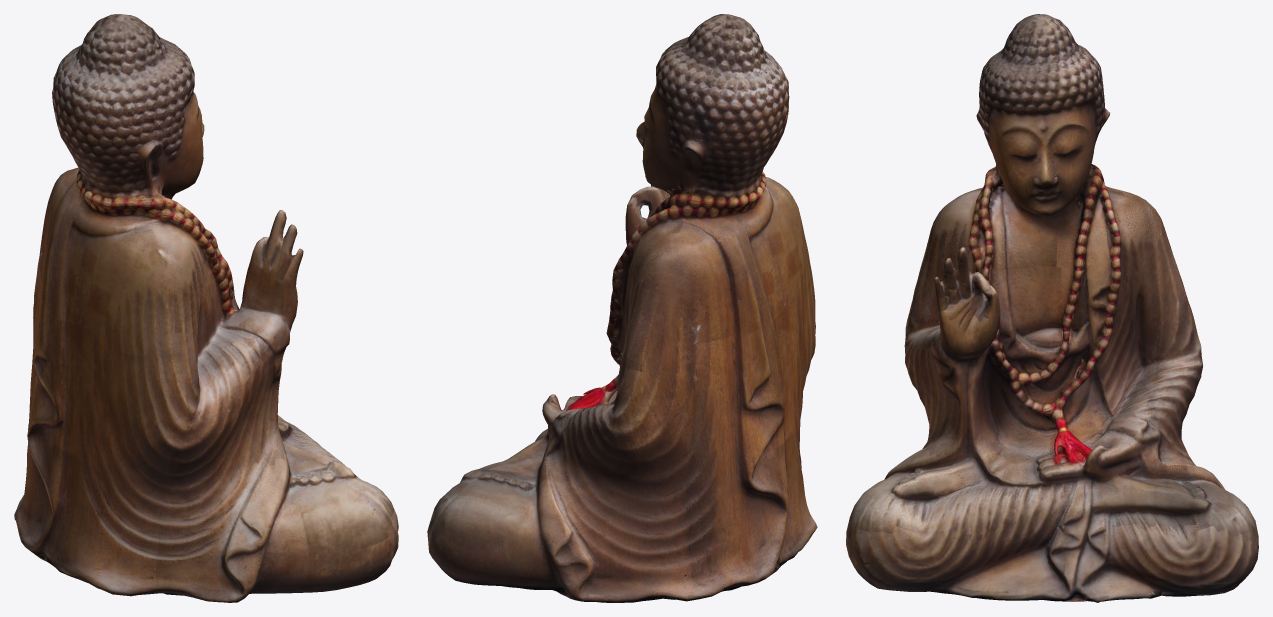
Rendered from discourse.glb.
3 renders of one model, left to right at view 1: azimuth 30°, elevation 25°; view 2: azimuth 150°, elevation 25°; view 3: azimuth 270°, elevation 25°, orthographic. The views are drawn at different scales.
Visible parts, largest first — view 1: Object_2; view 2: Object_2; view 3: Object_2.
Boxes of the visible parts, box(x1,y1,x2,y2) form: Object_2: box(14, 14, 398, 602); Object_2: box(427, 14, 817, 602); Object_2: box(846, 14, 1258, 602).
Size of the model in its own units: 1.9 by 3.59 by 2.7.
1 material, 1 textured.
